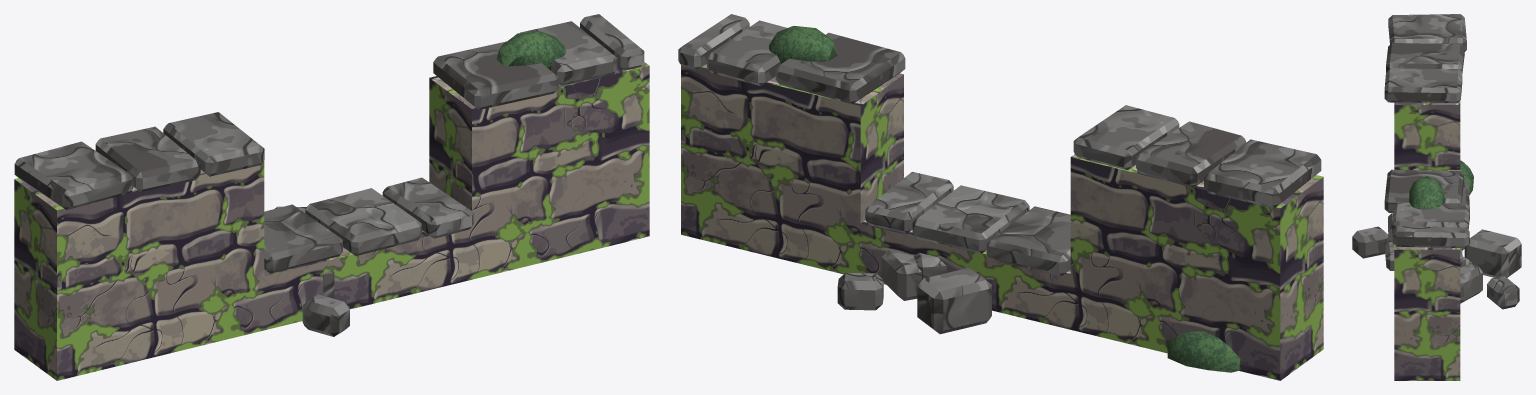
File: stone_wall_broken.glb
3 renders of one model, left to right at view 1: azimuth 30°, elevation 25°; view 2: azimuth 150°, elevation 25°; view 3: azimuth 270°, elevation 25°, orthographic. The views are drawn at different scales.
Parts seen in each view (by area): view 1: Wall; view 2: Wall; view 3: Wall.
Part boxes in pixels (x1=…): Wall: x1=14, y1=14, x2=649, y2=380; Wall: x1=678, y1=14, x2=1323, y2=380; Wall: x1=1352, y1=14, x2=1521, y2=380.
Bounding box in the file's own units: 4 × 1.36 × 1.29.
3 materials, 3 textured.
